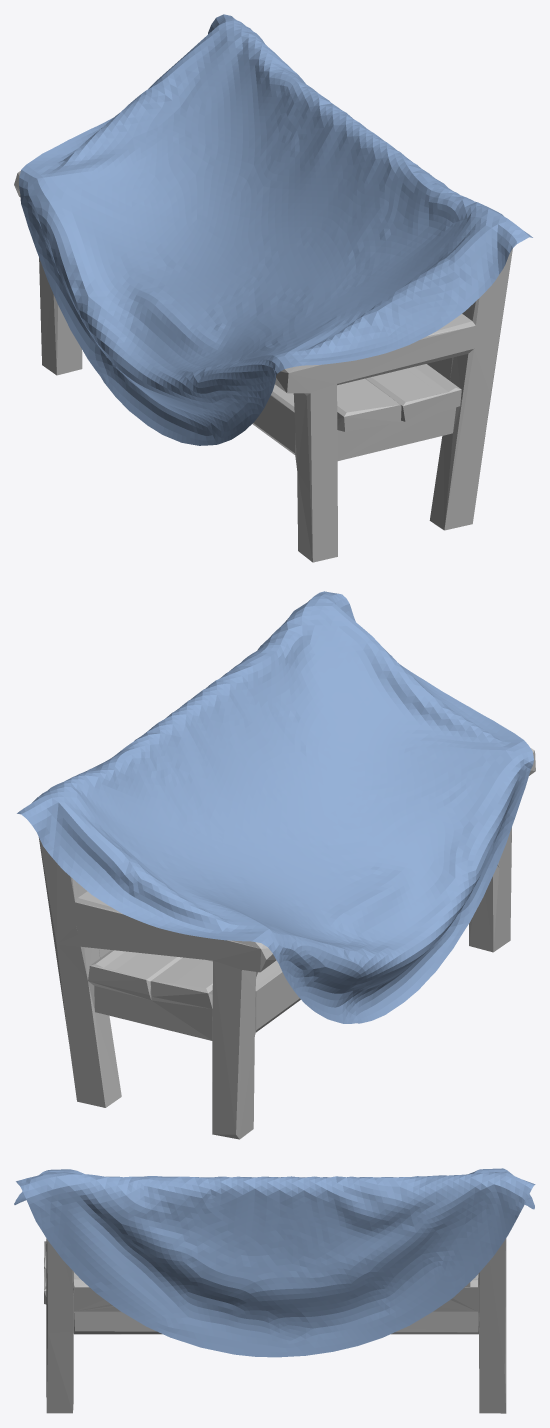
Rendered from level_2.glb.
The picture shows the model from 3 angles, top to bottom: view 1: azimuth 30°, elevation 25°; view 2: azimuth 150°, elevation 25°; view 3: azimuth 270°, elevation 25°; orthographic projection. The views are drawn at different scales.
Visible parts, largest first — view 1: world, object.obj; view 2: world, object.obj; view 3: world, object.obj.
Part boxes in pixels (x1,y1,x2,y2): world: (19, 14, 532, 445); object.obj: (14, 171, 512, 562); world: (17, 591, 533, 1023); object.obj: (38, 748, 535, 1139); world: (14, 1168, 535, 1357); object.obj: (44, 1238, 506, 1413).
Bounding box in the file's own units: 0.2632 × 0.2863 × 0.5384.
